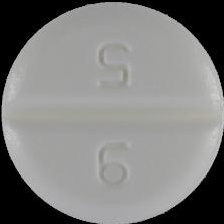13668-095: (0, 0, 224, 224)
